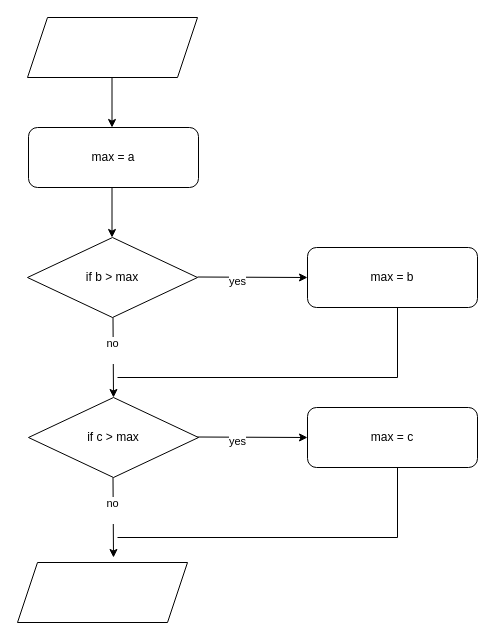
Some shapes in this 495 by 640 pixel diagram are drawn without their labels. The shapes that lost their labels are listed below. From the top down, each one's box as (x1, y1, x2, y2) in pixels, then its label:
(26, 16, 198, 78): input a, b, c
(16, 562, 188, 622): output max
